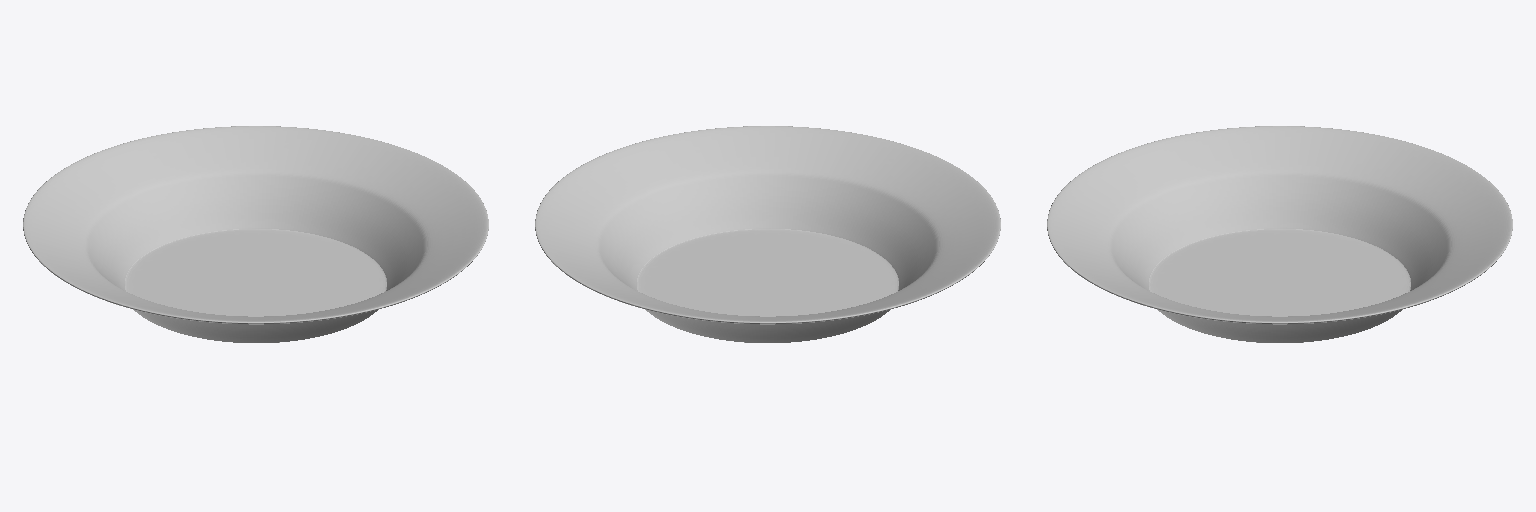
The model's file is Deep_Plate.obj.
The picture shows the model from 3 angles: view 1: azimuth 30°, elevation 25°; view 2: azimuth 150°, elevation 25°; view 3: azimuth 270°, elevation 25°; orthographic projection.
Visible parts, largest first — view 1: Deep_Plate_Circle.005; view 2: Deep_Plate_Circle.005; view 3: Deep_Plate_Circle.005.
Part boxes in pixels (x1,y1,x2,y2): Deep_Plate_Circle.005: (23, 126, 488, 342); Deep_Plate_Circle.005: (535, 126, 1000, 342); Deep_Plate_Circle.005: (1047, 126, 1512, 342).
Bounding box in the file's own units: 0.6342 × 0.0958 × 0.6342.